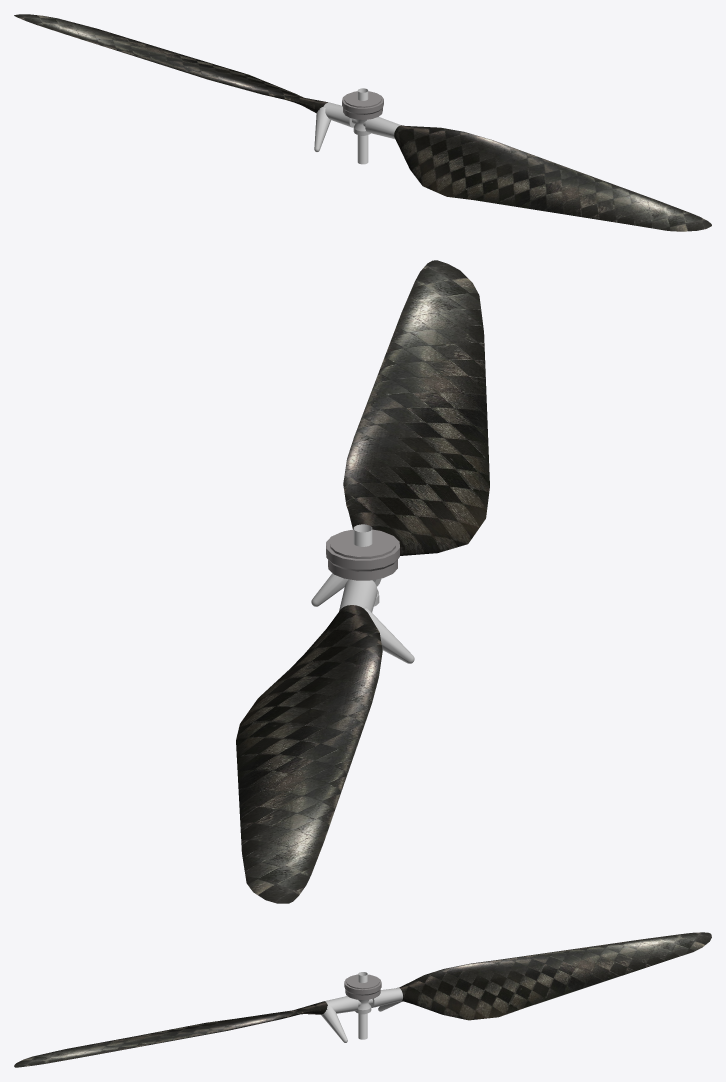
File: propellor_1.dae
3 renders of one model, top to bottom at view 1: azimuth 30°, elevation 25°; view 2: azimuth 150°, elevation 25°; view 3: azimuth 270°, elevation 25°, orthographic. The views are drawn at different scales.
Parts seen in each view (by area): view 1: rotors_01; view 2: rotors_01; view 3: rotors_01.
Boxes of the visible parts, <box> form: rotors_01: <box>14,14,711,231</box>; rotors_01: <box>236,260,489,903</box>; rotors_01: <box>14,932,711,1067</box>.
Bounding box in the file's own units: 0.5055 × 1.11 × 0.1117.
